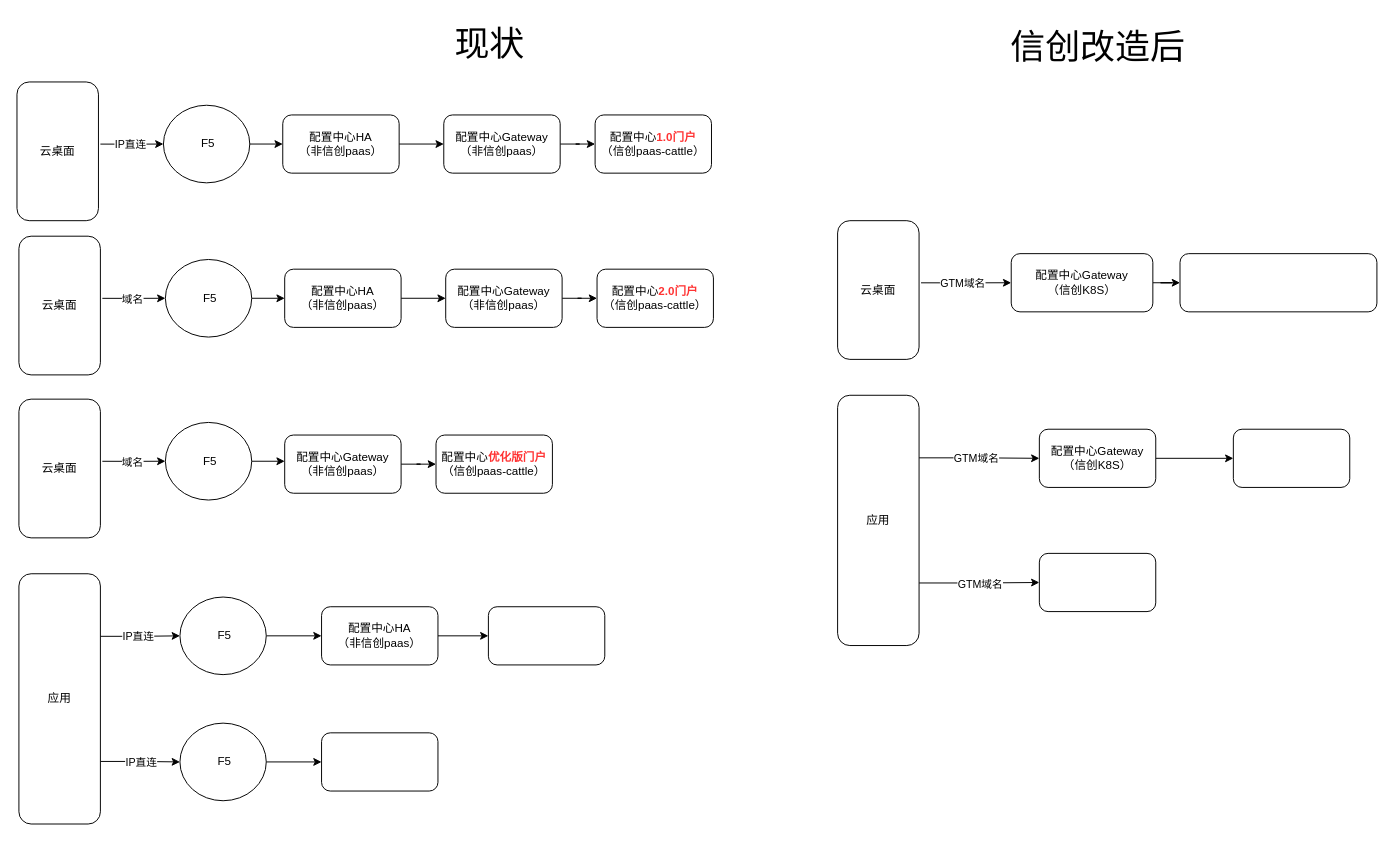
The diagram is 1394 pixels wide and 841 high, and some of its shapes have lost their labels. The shapes that lost their labels are listed below. From the top down, each one's centre as x and y in pixels, then its label:
point 1278,282: 配置中心门户（1.0、2.0、优化版） （信创K8S）
point 1291,457: 配置中心API （信创K8S）
point 1097,582: 配置中心consul集群 （信创虚机）
point 546,635: 配置中心API （信创paas-cattle）
point 379,761: 配置中心consul集群 （非信创虚机）
